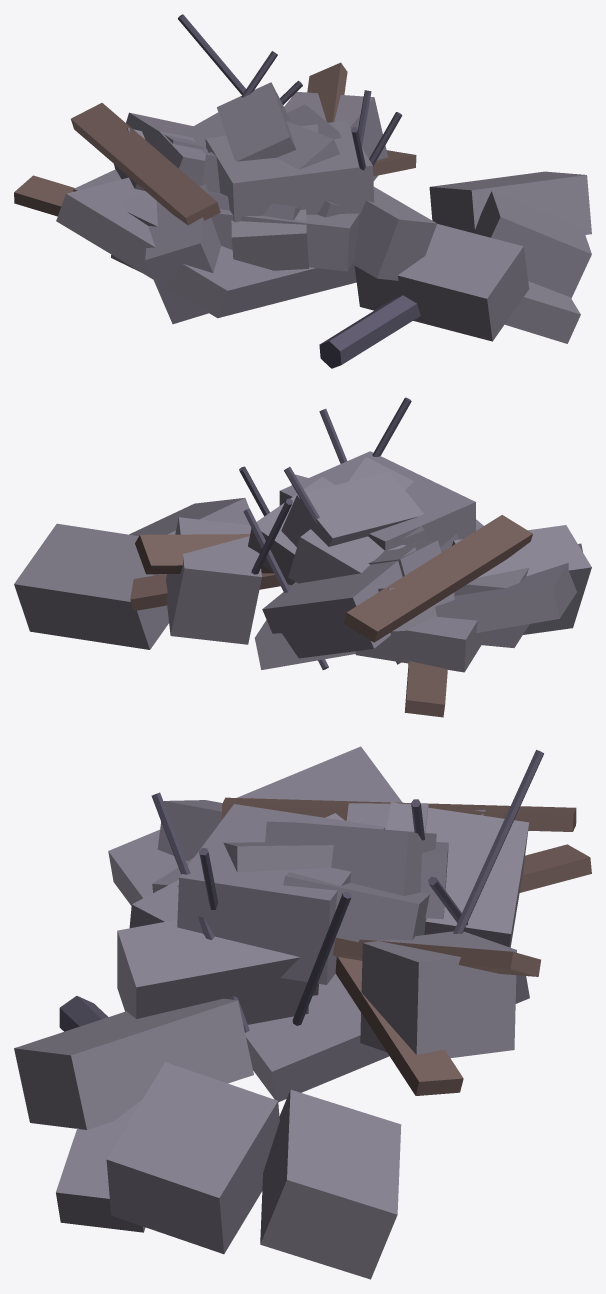
The model's file is DebrisPile.glb.
The picture shows the model from 3 angles, top to bottom: view 1: azimuth 30°, elevation 25°; view 2: azimuth 150°, elevation 25°; view 3: azimuth 270°, elevation 25°; orthographic projection. The views are drawn at different scales.
Parts seen in each view (by area): view 1: chunk (×19), slab, plank (×4), pipe, rebar; view 2: chunk (×14), plank (×4), slab, rebar (×5); view 3: chunk (×15), slab, plank (×4), rebar (×3), pipe.
Boxes of the visible parts, box(x1,y1,x2,y2) form: chunk (×19): box(111, 82, 591, 343); slab: box(56, 177, 356, 318); plank (×4): box(14, 62, 416, 225); pipe: box(319, 295, 420, 368); rebar: box(178, 14, 245, 94); chunk (×14): box(14, 451, 591, 672); plank (×4): box(130, 515, 532, 717); slab: box(254, 543, 582, 669); rebar (×5): box(243, 397, 411, 669); chunk (×15): box(14, 800, 529, 1279); slab: box(108, 746, 529, 1102); plank (×4): box(221, 797, 591, 1095); rebar (×3): box(151, 749, 543, 1032); pipe: box(59, 996, 108, 1031).
Bounding box in the file's own units: 2.21 × 1.05 × 1.64.
